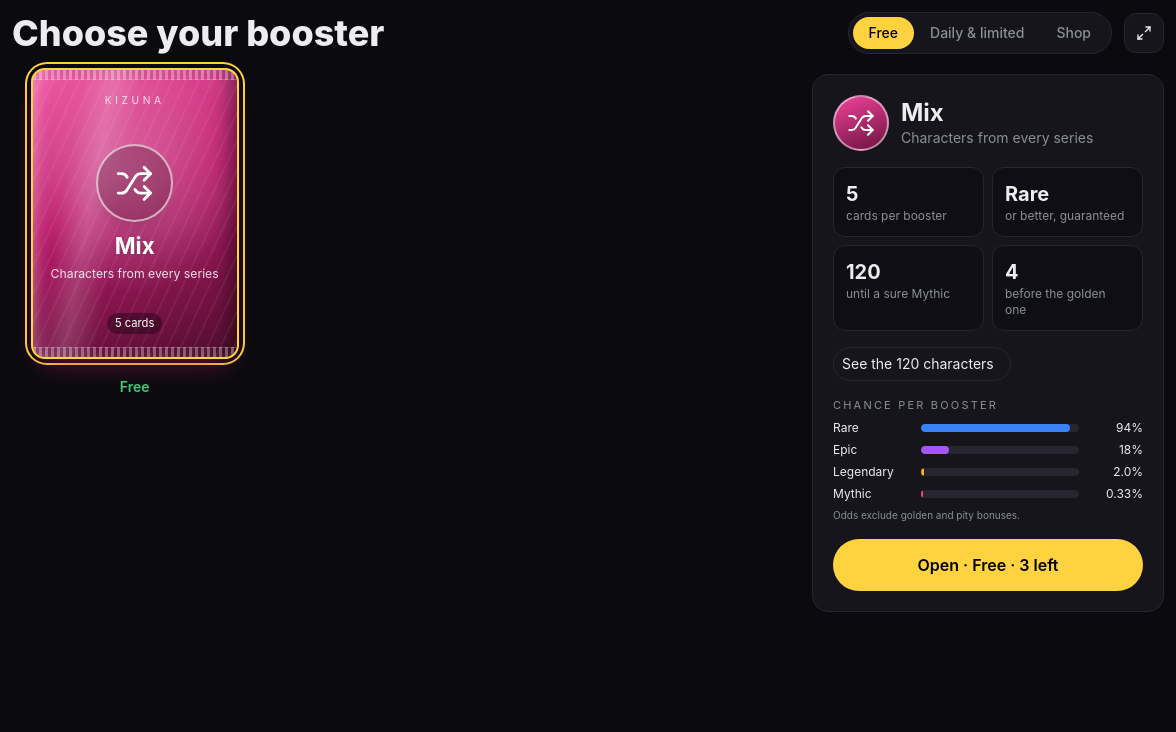
Test case: BoosterGrid › disables the daily Open when there is no pool
The width and height of the screenshot is (1176, 732).
Click the tab "Daily & limited" at (977, 33), box [914, 17, 1040, 49]
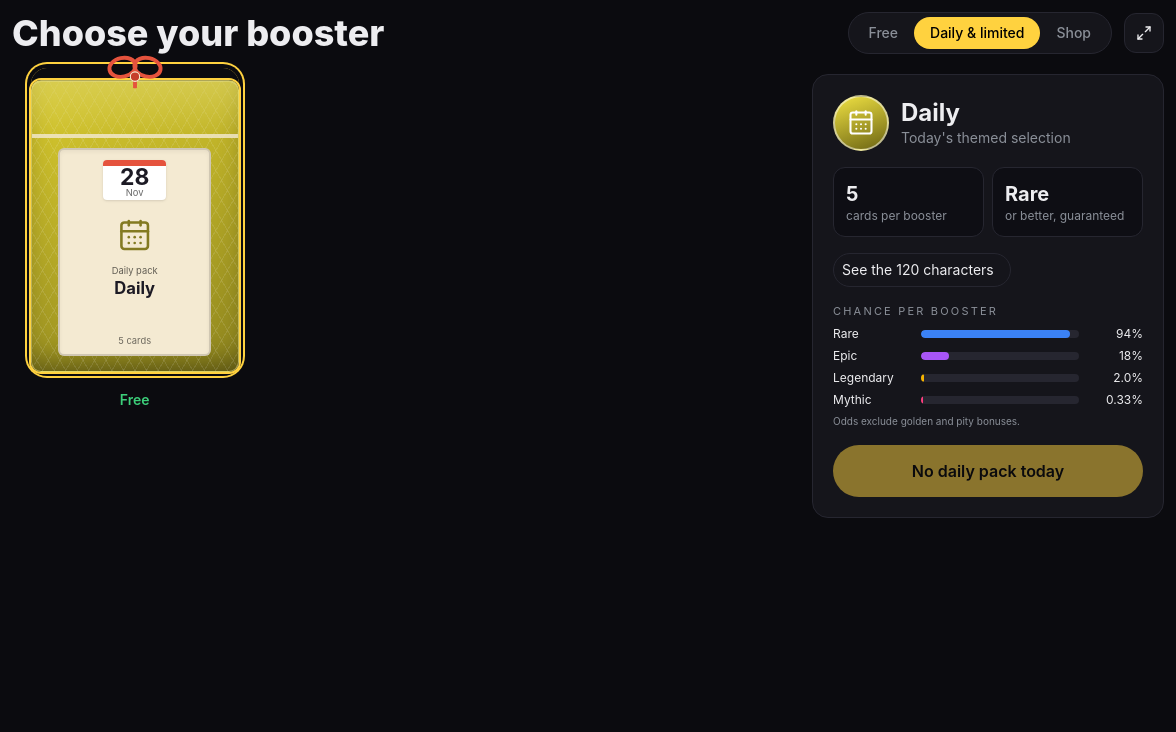
Now the button "No daily pack today" is disabled, box [833, 444, 1143, 496]
